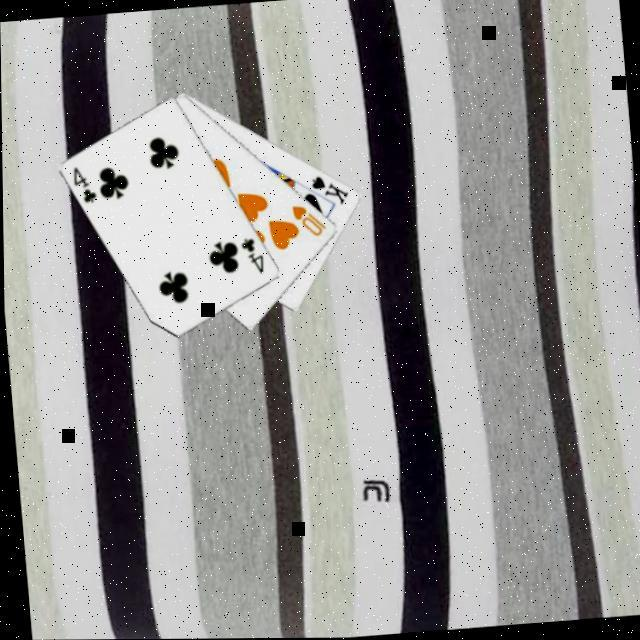10H: (288, 198, 329, 240)
4C: (68, 160, 100, 207), (238, 234, 268, 278)
KS: (308, 169, 352, 208)
